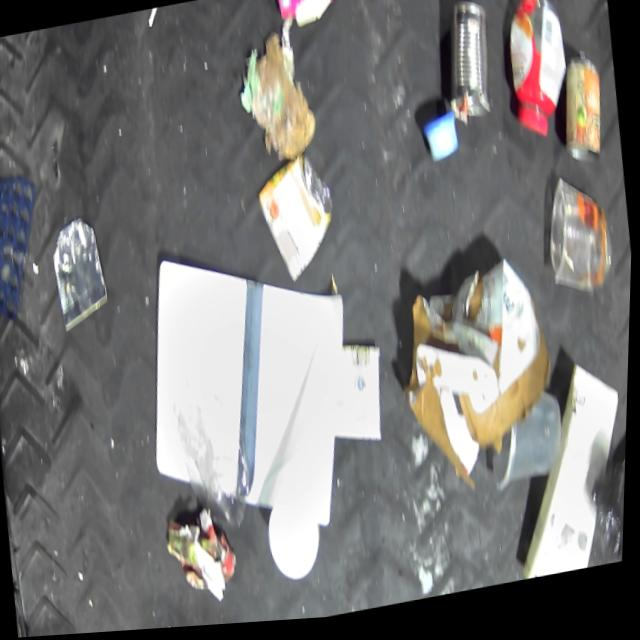can: (251, 152, 344, 294), (47, 214, 116, 337), (436, 0, 500, 131), (555, 58, 612, 179)
